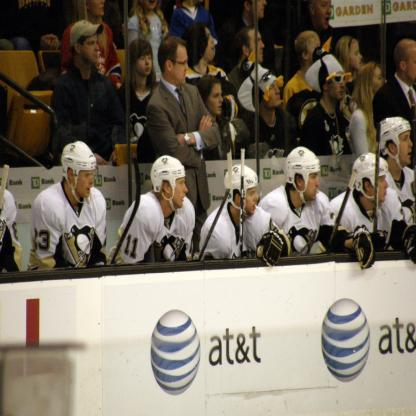Helmet: (60, 141, 97, 205), (287, 142, 319, 213), (150, 154, 186, 212), (222, 162, 259, 216), (351, 153, 388, 205), (380, 114, 412, 171)
